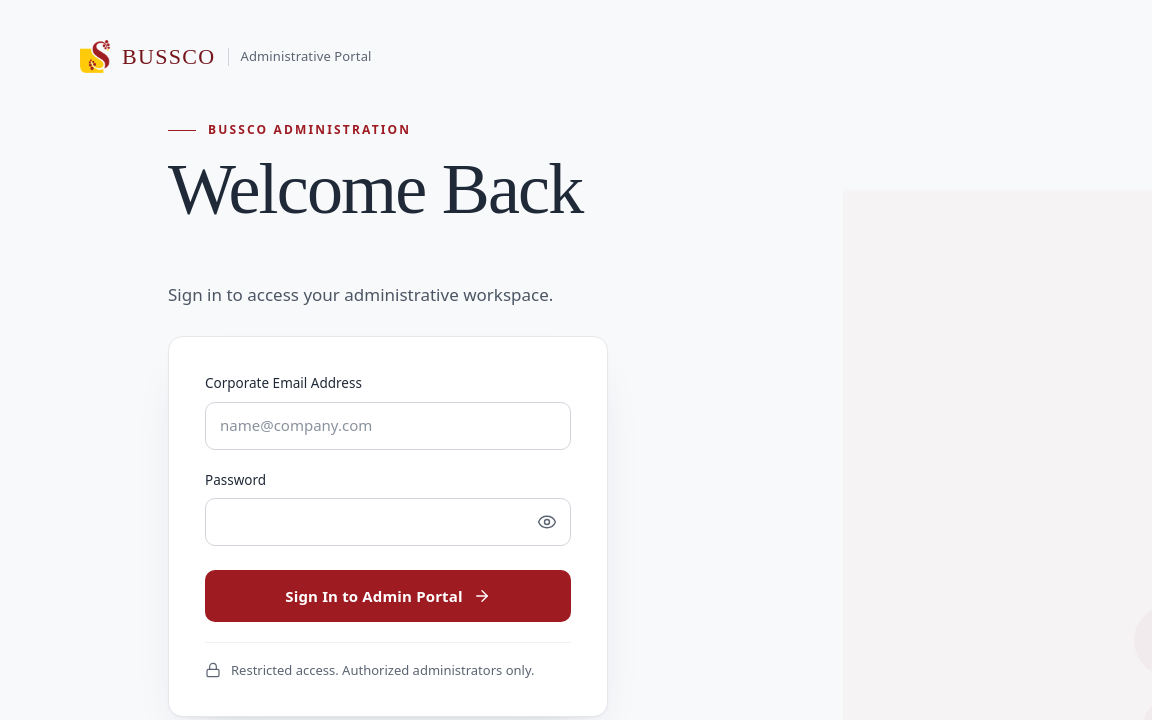
Test case: AdminLoginPage › shows the pending state once and ignores repeated submits
The width and height of the screenshot is (1152, 720).
expect the heading "Welcome Back" is shown: met, box 168,153 -> 652,268
In the field labelled "Corporate Email Address": point(388, 426) 205,402 -> 571,450, type " Sam@Example.com "
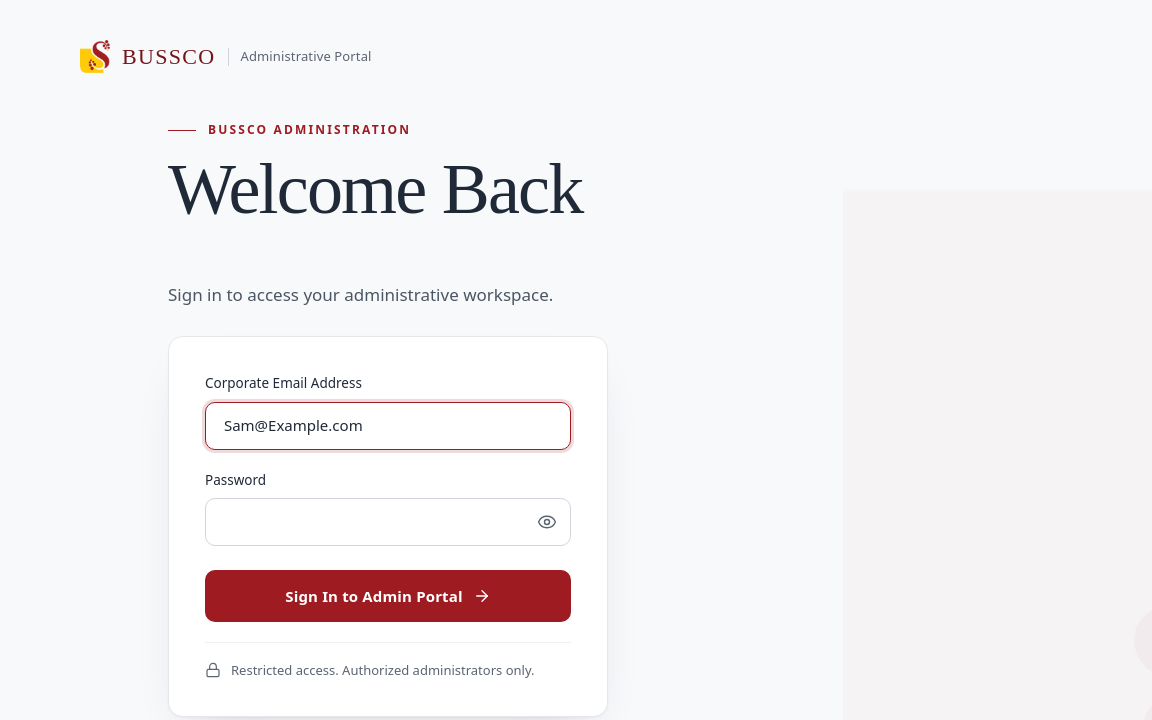
In the password field labelled "Password": point(388, 522) 205,498 -> 571,546, type "a password"
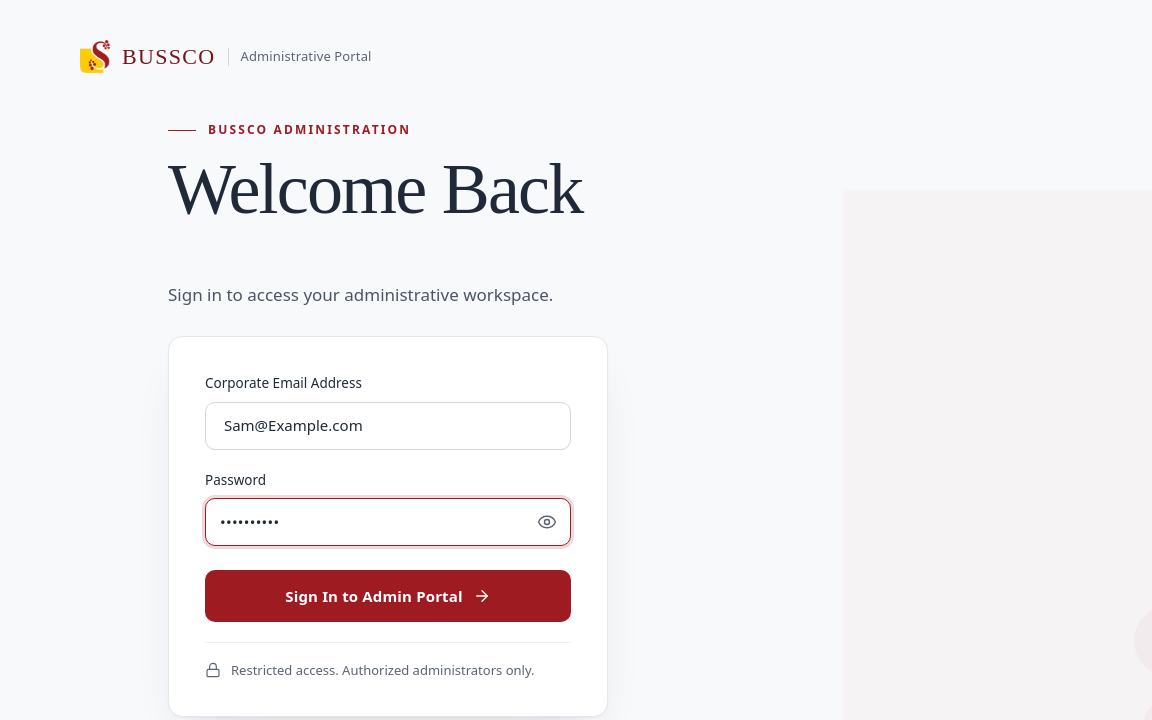
Click the button "Sign In to Admin Portal": point(388, 596) 205,570 -> 571,622
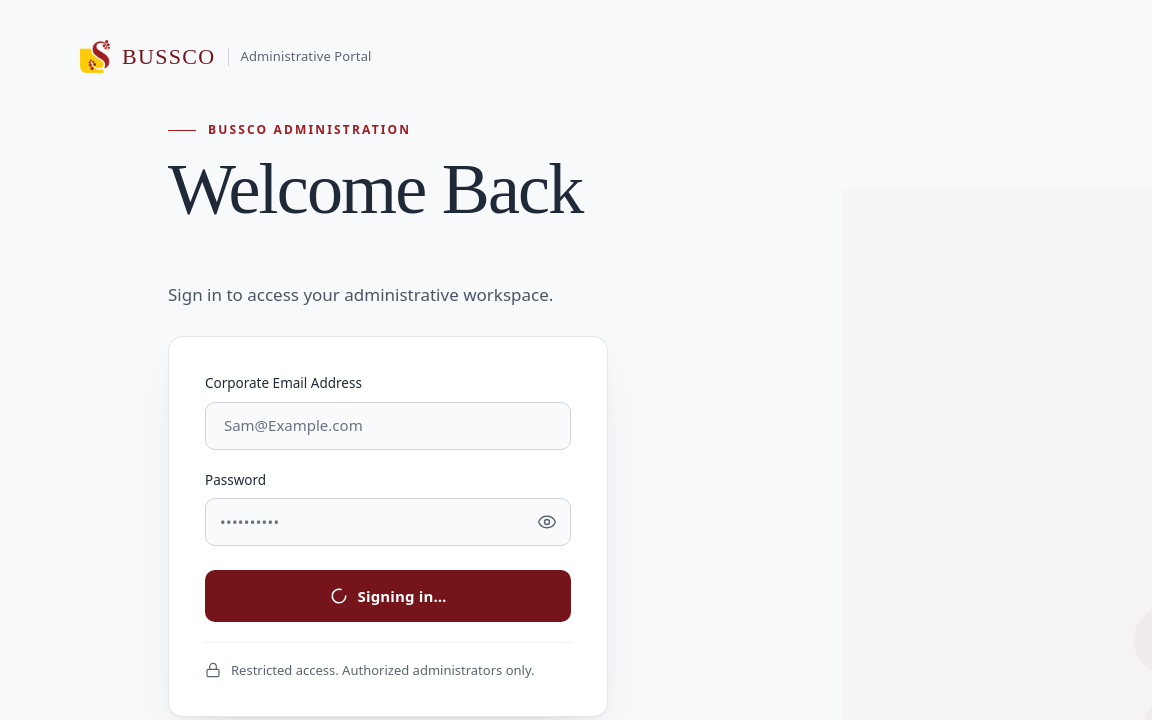
expect the button "Signing in…" is disabled: met, box 205,570 -> 571,622
Press Enter
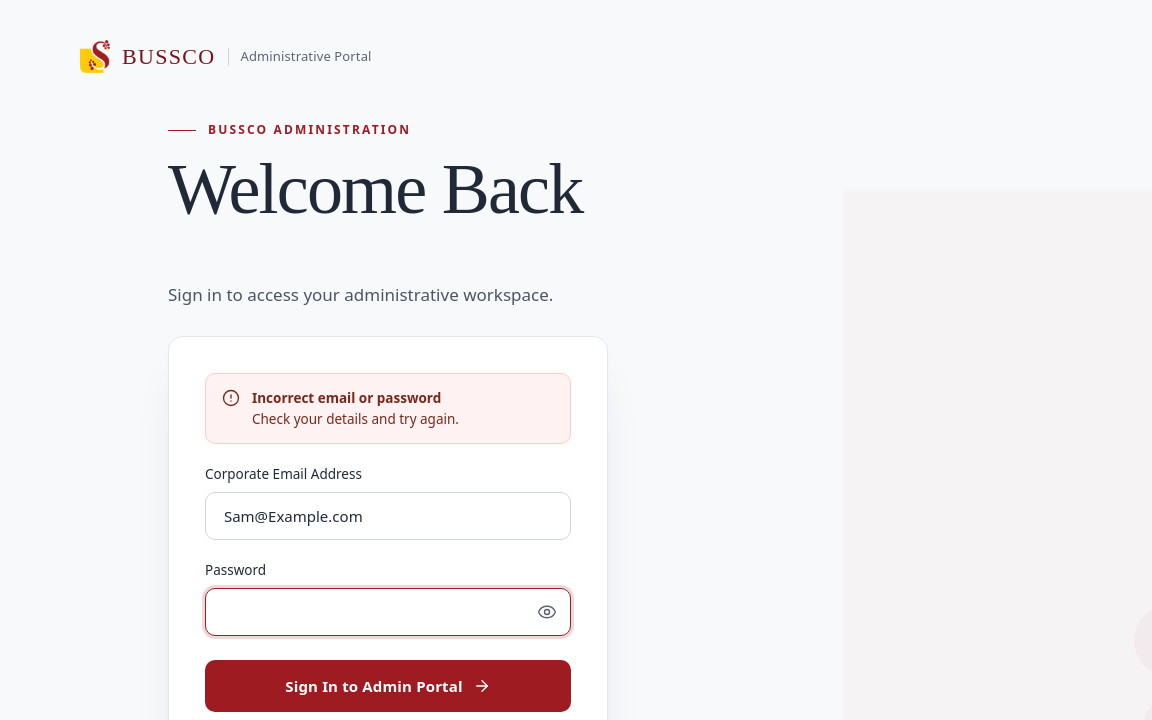
expect the message shows "Incorrect email or password": met, box 252,389 -> 441,407
